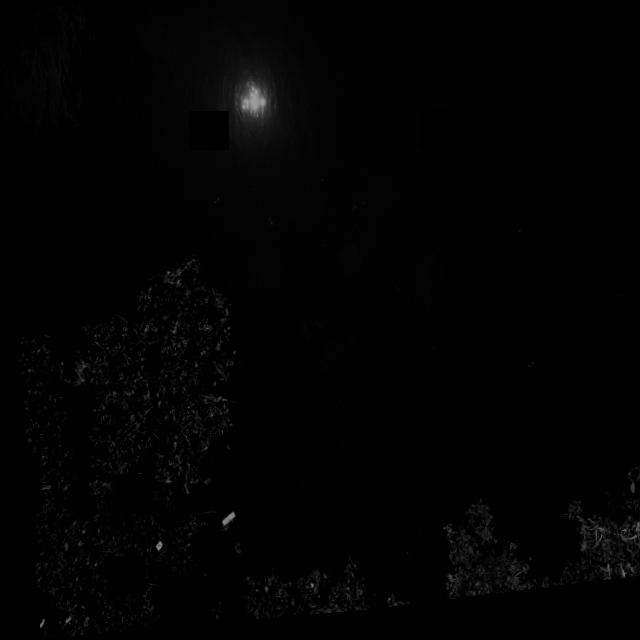plastic: (211, 508, 236, 538), (144, 539, 159, 555), (54, 612, 68, 628), (127, 471, 140, 486), (135, 493, 145, 505), (84, 559, 93, 572), (636, 530, 640, 538), (639, 527, 640, 535)
